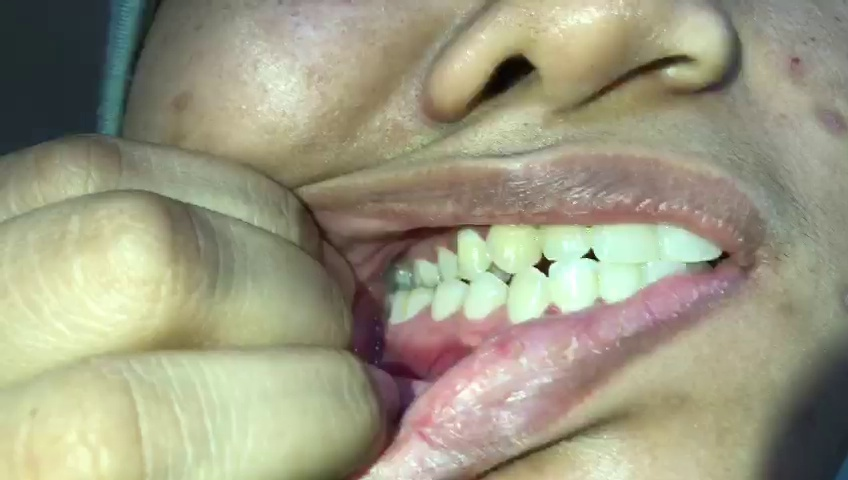1st Molar: (408, 282, 433, 323), (414, 257, 438, 282)
1st Premolar: (464, 272, 508, 323), (454, 229, 491, 282)
2nd Molar: (391, 288, 410, 323), (393, 259, 414, 288)
2nd Premolar: (432, 279, 467, 322), (436, 245, 460, 285)
Canine: (487, 220, 543, 272), (505, 265, 549, 325)
Lateral Incisor: (547, 258, 601, 314)
